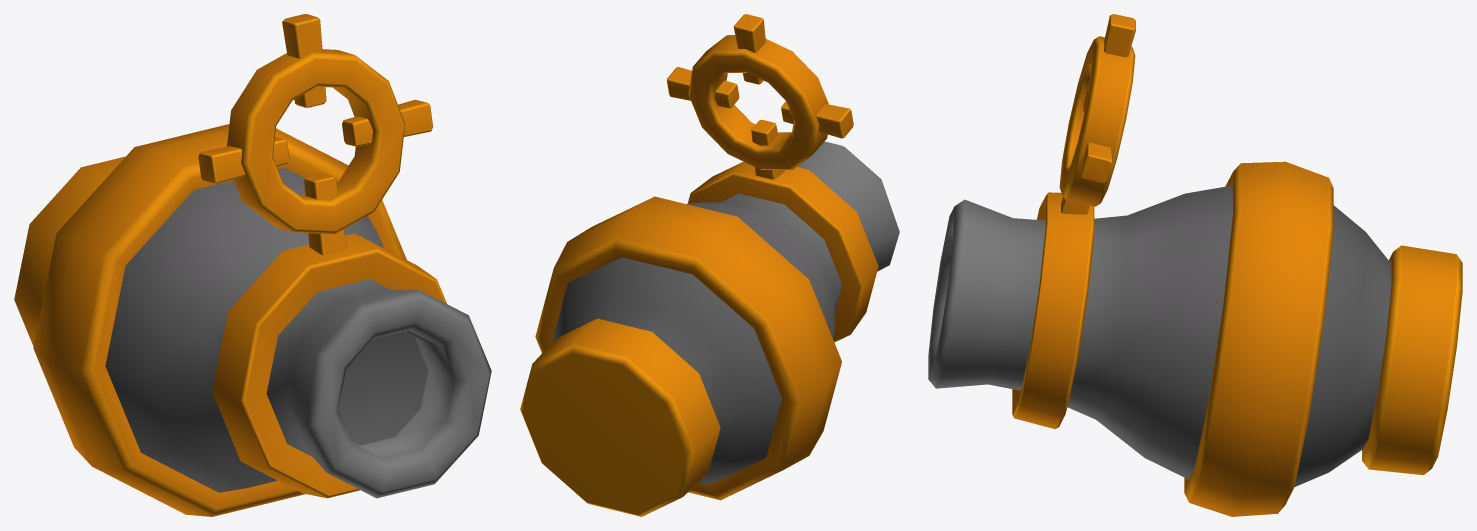
The model's file is Cannon.fbx.
3 renders of one model, left to right at view 1: azimuth 30°, elevation 25°; view 2: azimuth 150°, elevation 25°; view 3: azimuth 270°, elevation 25°, orthographic. The views are drawn at different scales.
Visible parts, largest first — view 1: Cannon; view 2: Cannon; view 3: Cannon.
Part boxes in pixels (x1=…): Cannon: x1=14, y1=14, x2=491, y2=516; Cannon: x1=520, y1=14, x2=899, y2=516; Cannon: x1=928, y1=14, x2=1462, y2=516.
Size of the model in its own units: 123 by 177 by 180.
